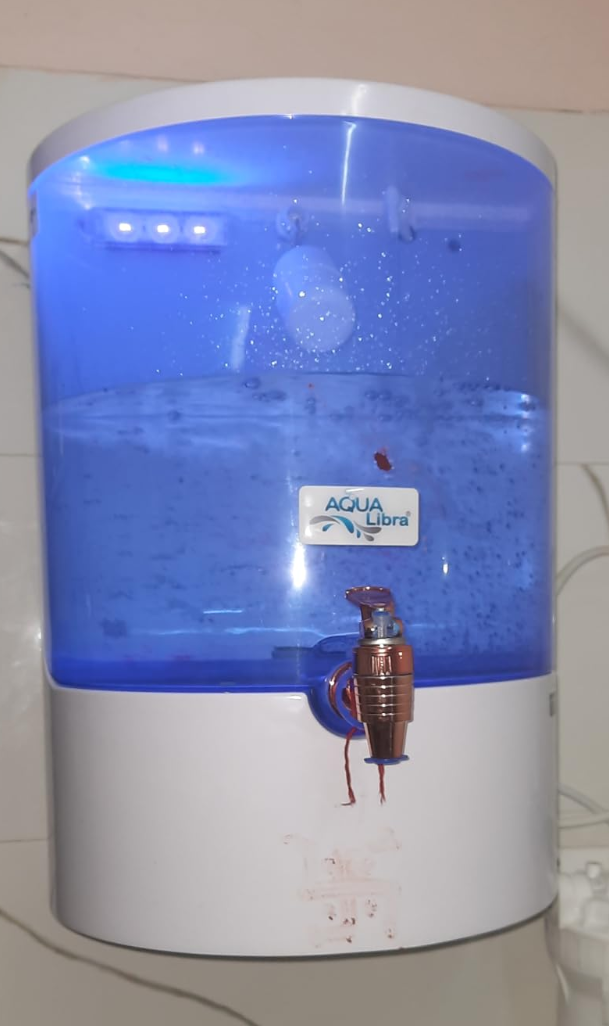water purifier: (19, 64, 570, 972)
